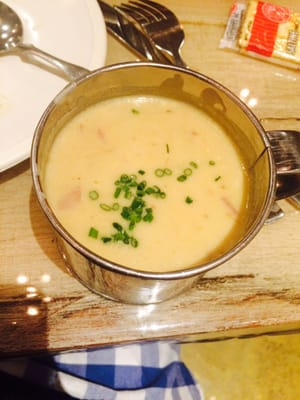burger: (97, 0, 188, 68)
sushi: (31, 40, 277, 306)
